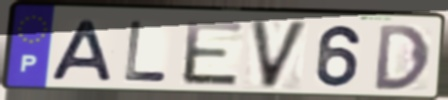6: (315, 23, 365, 91)
A: (48, 18, 116, 84)
D: (373, 23, 433, 93)
E: (181, 18, 246, 89)
L: (122, 19, 170, 85)
V: (247, 18, 312, 92)
